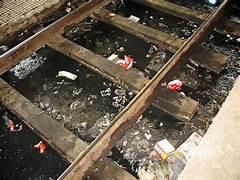Plastic: (107, 49, 134, 70), (165, 79, 182, 93)
mulch: (55, 69, 78, 81)
